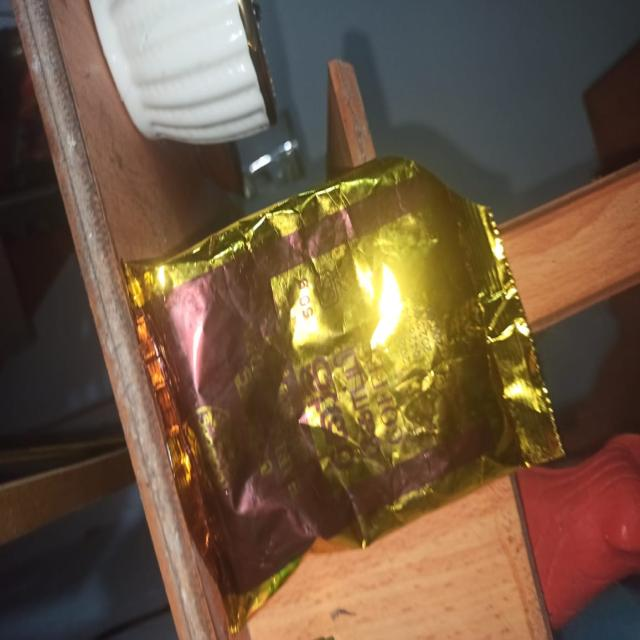Harischandra Coffee: (74, 137, 570, 590)
